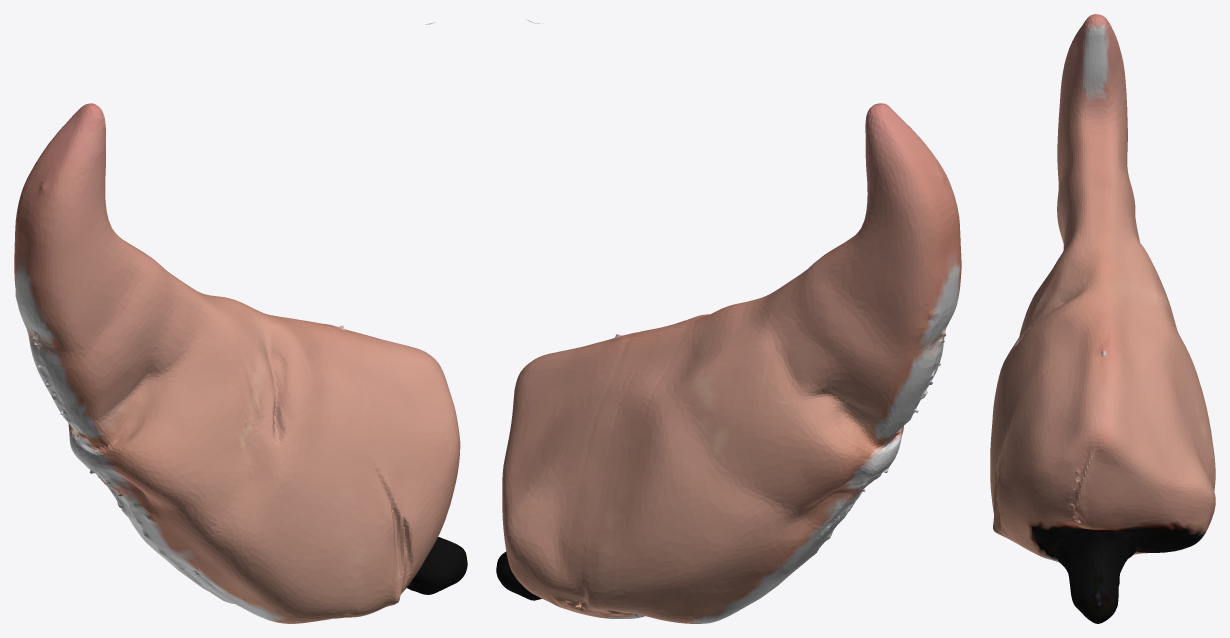
The model's file is shellhorn2.glb.
3 renders of one model, left to right at view 1: azimuth 30°, elevation 25°; view 2: azimuth 150°, elevation 25°; view 3: azimuth 270°, elevation 25°, orthographic. The views are drawn at different scales.
Visible parts, largest first — view 1: geometry_0; view 2: geometry_0; view 3: geometry_0.
Boxes of the visible parts, bbox=[...] form: geometry_0: bbox=[14, 22, 467, 623]; geometry_0: bbox=[496, 19, 961, 623]; geometry_0: bbox=[990, 14, 1215, 623].
Bounding box in the file's own units: 0.6875 × 0.8391 × 0.3666.
